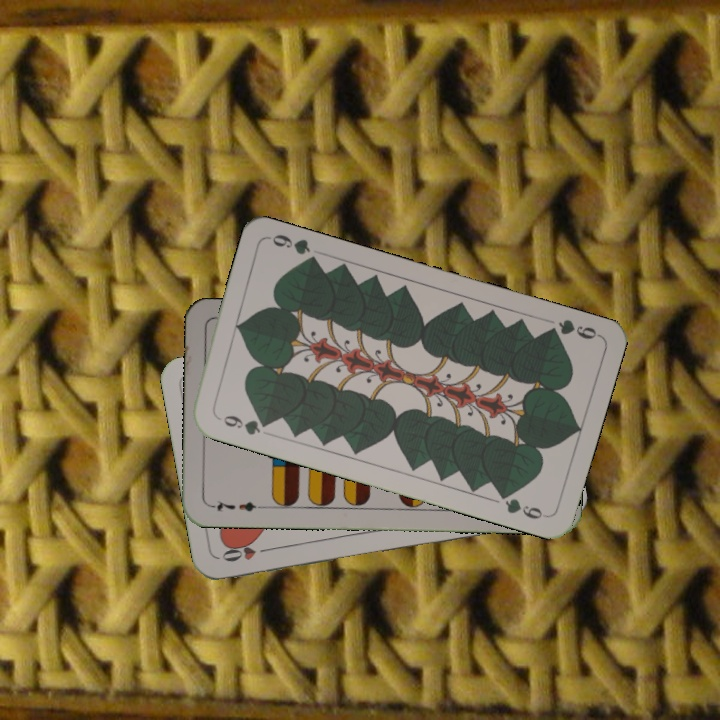E7: (206, 496, 265, 515)
G9: (212, 411, 273, 438), (541, 315, 602, 342)
HO: (217, 541, 275, 565)
